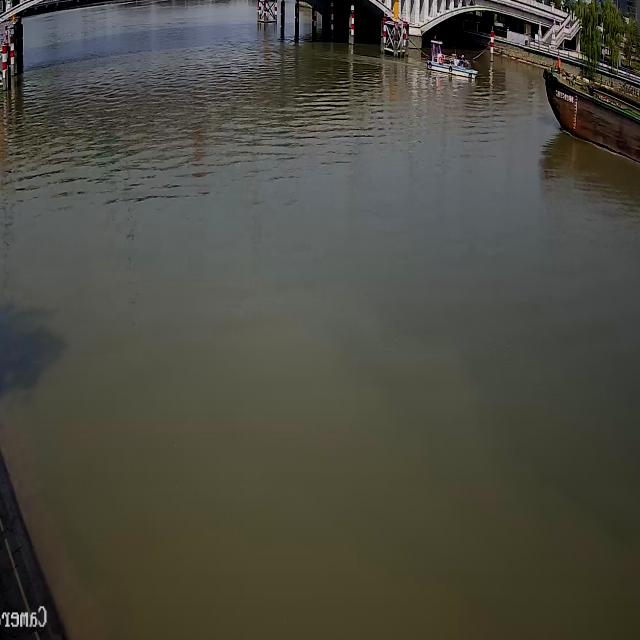ship: (544, 66, 640, 164), (428, 39, 479, 78)
